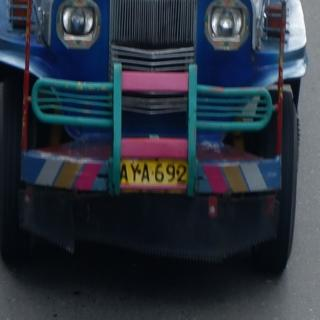license: (122, 161, 189, 191)
